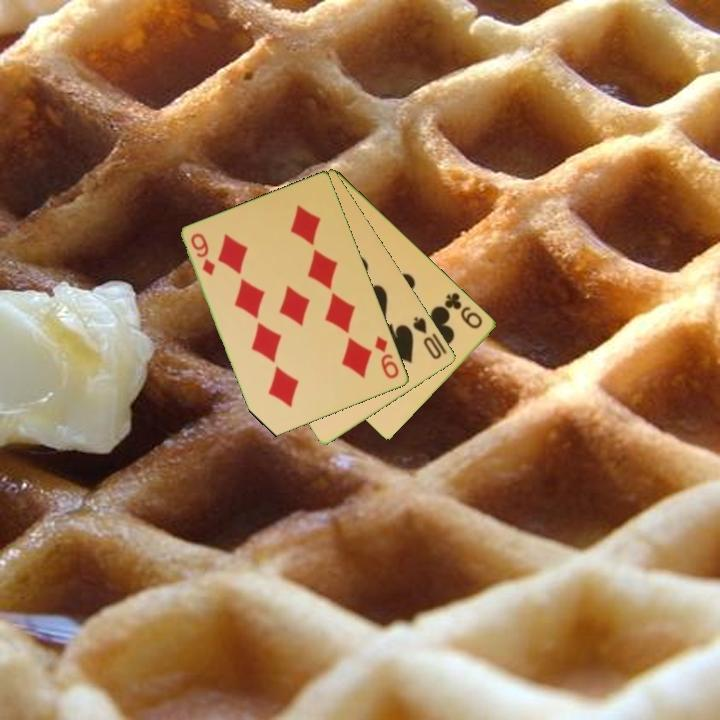10s: (409, 313, 445, 362)
9c: (441, 289, 486, 332)
9d: (187, 230, 218, 279), (372, 333, 402, 382)
